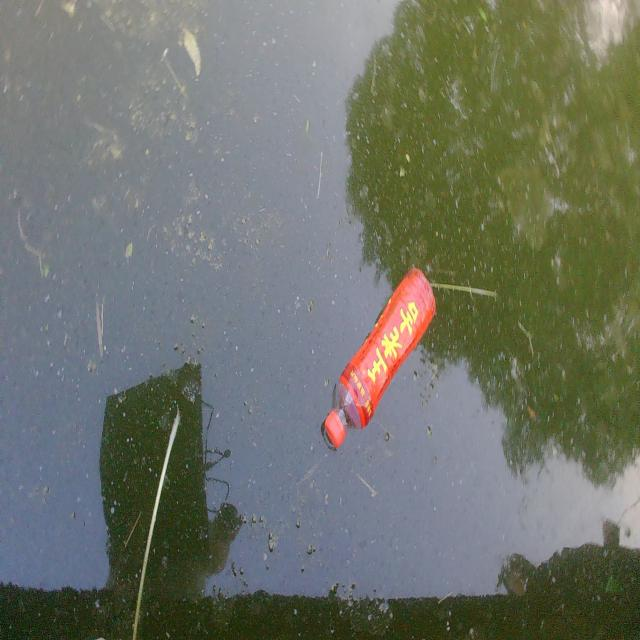Bottle: (320, 264, 438, 456)
